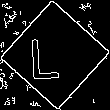L_N: (38, 29, 72, 81)
